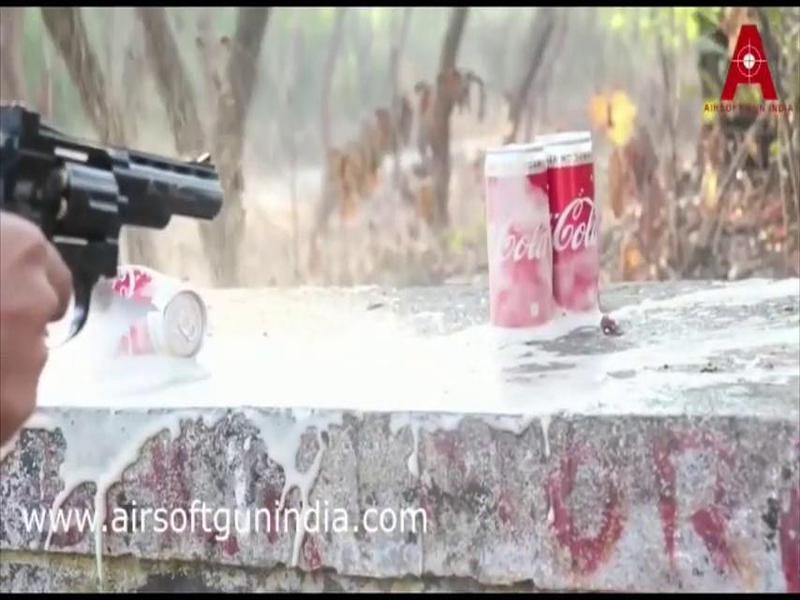Revolver: (1, 75, 229, 328)
